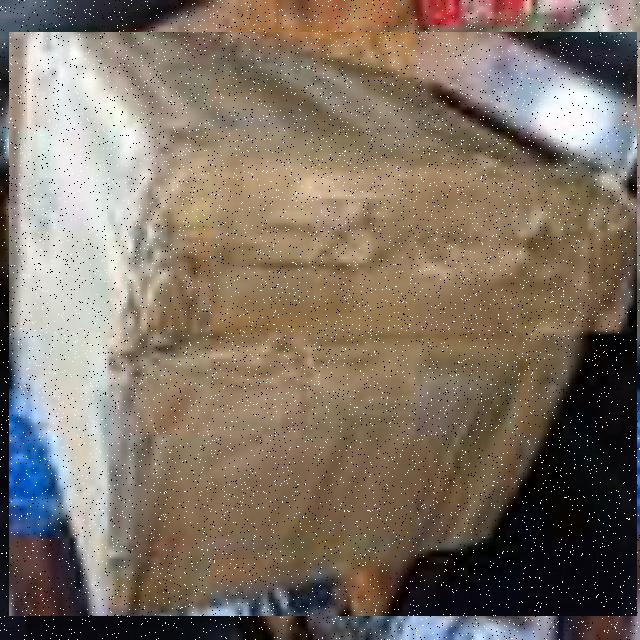defect: (9, 32, 637, 616)
